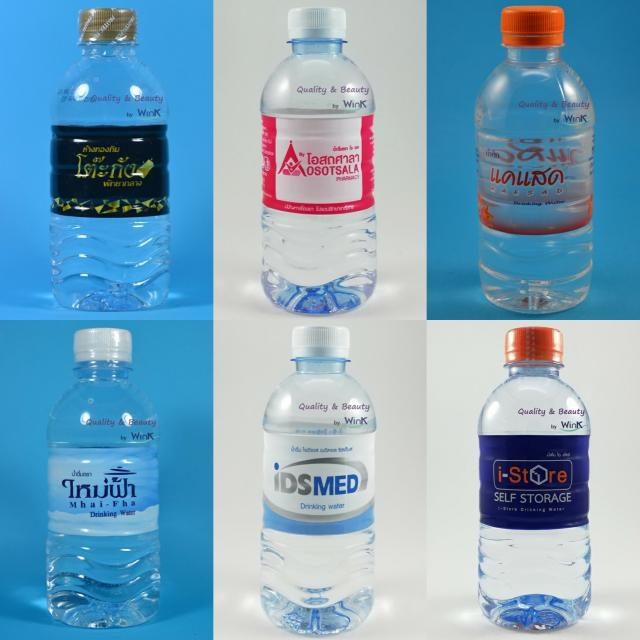plastik: (475, 5, 595, 313), (50, 9, 170, 311), (260, 325, 376, 634), (260, 8, 376, 314), (478, 327, 591, 630), (46, 328, 160, 628)
